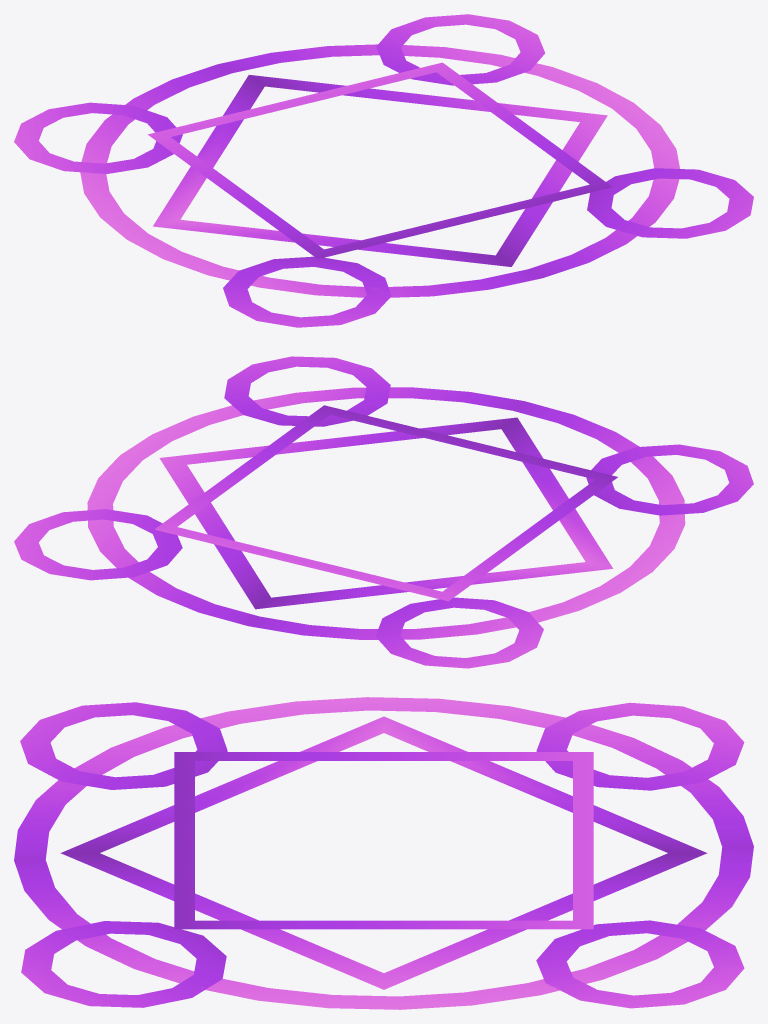
Rendered from undead_floor_sign_3.fbx.
3 views of the same model, one above another, from view 1: azimuth 30°, elevation 25°; view 2: azimuth 150°, elevation 25°; view 3: azimuth 270°, elevation 25° (orthographic). The views are drawn at different scales.
Visible parts, largest first — view 1: undead_floor_sign_3; view 2: undead_floor_sign_3; view 3: undead_floor_sign_3.
Boxes of the visible parts, bbox=[...] form: undead_floor_sign_3: bbox=[14, 14, 753, 327]; undead_floor_sign_3: bbox=[14, 356, 753, 668]; undead_floor_sign_3: bbox=[14, 697, 753, 1009].
Size of the model in its own units: 4.46 by 0.0847 by 4.46.
